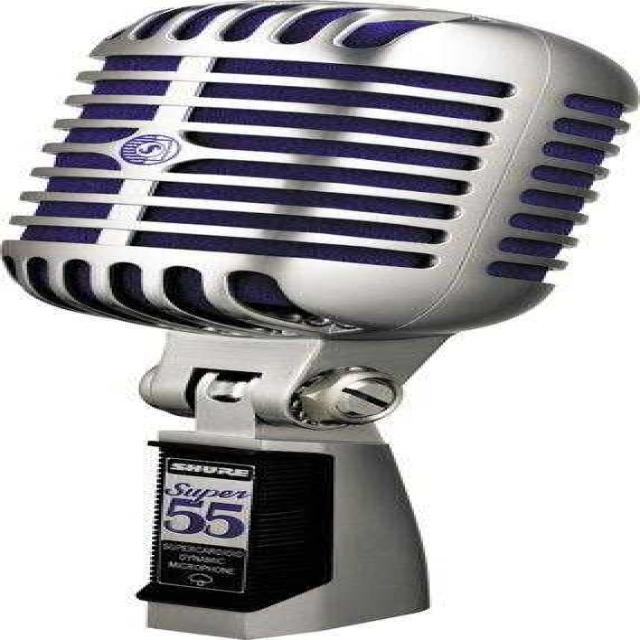microphone: (12, 10, 624, 634)
